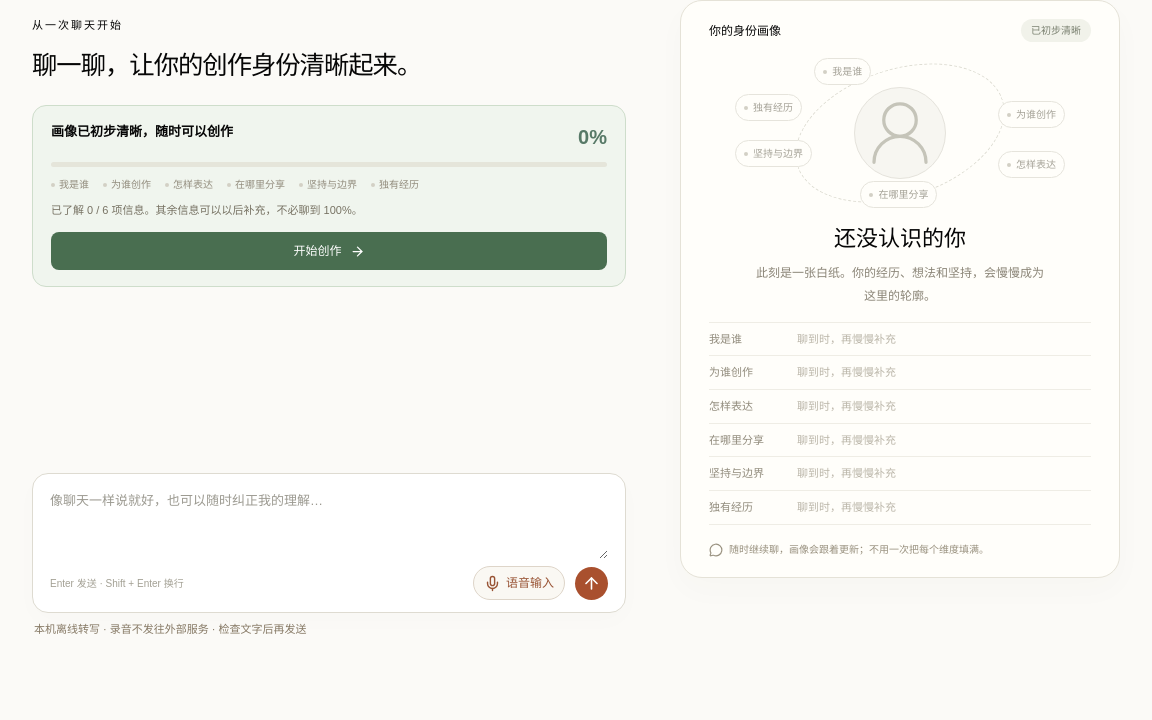
local voice input › releases a permission request that completes after cancellation
The width and height of the screenshot is (1152, 720).
What coordinates should you click on to do the following:
click the button with aria-label "开始语音输入"
I would click on:
 (519, 583)
Its box is [473,566,565,600].
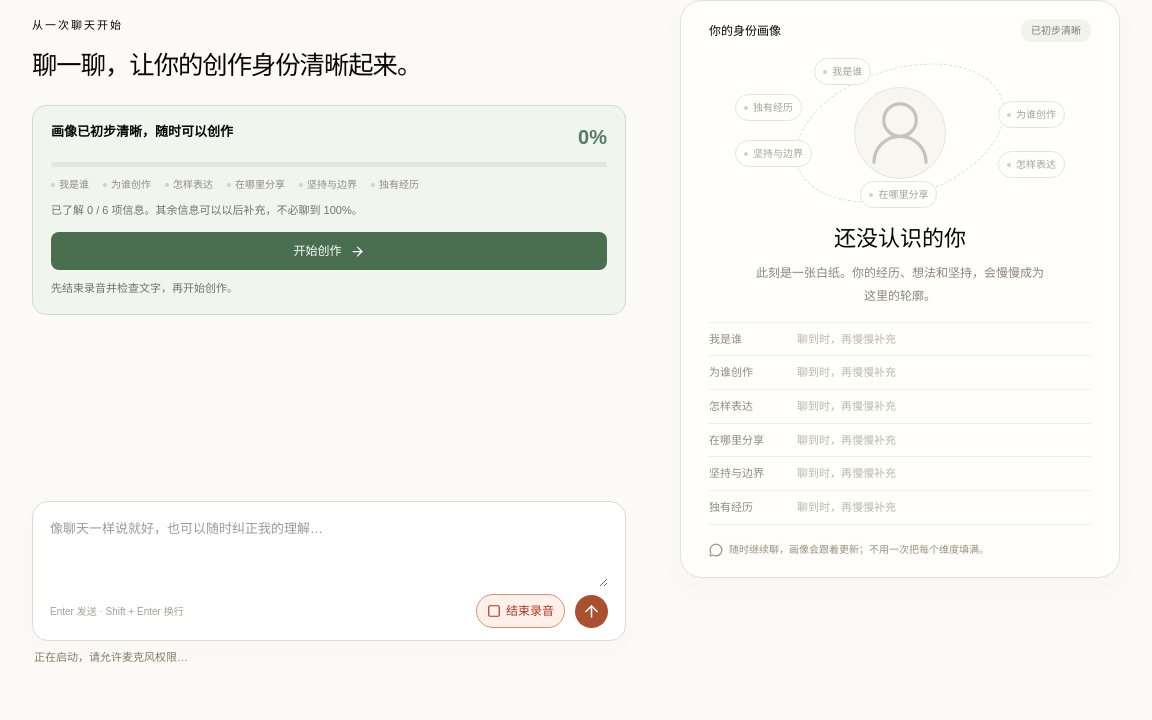
What coordinates should you click on to do the following:
click the button with aria-label "停止语音输入"
I would click on:
 (520, 611)
Its box is [476,594,565,628].
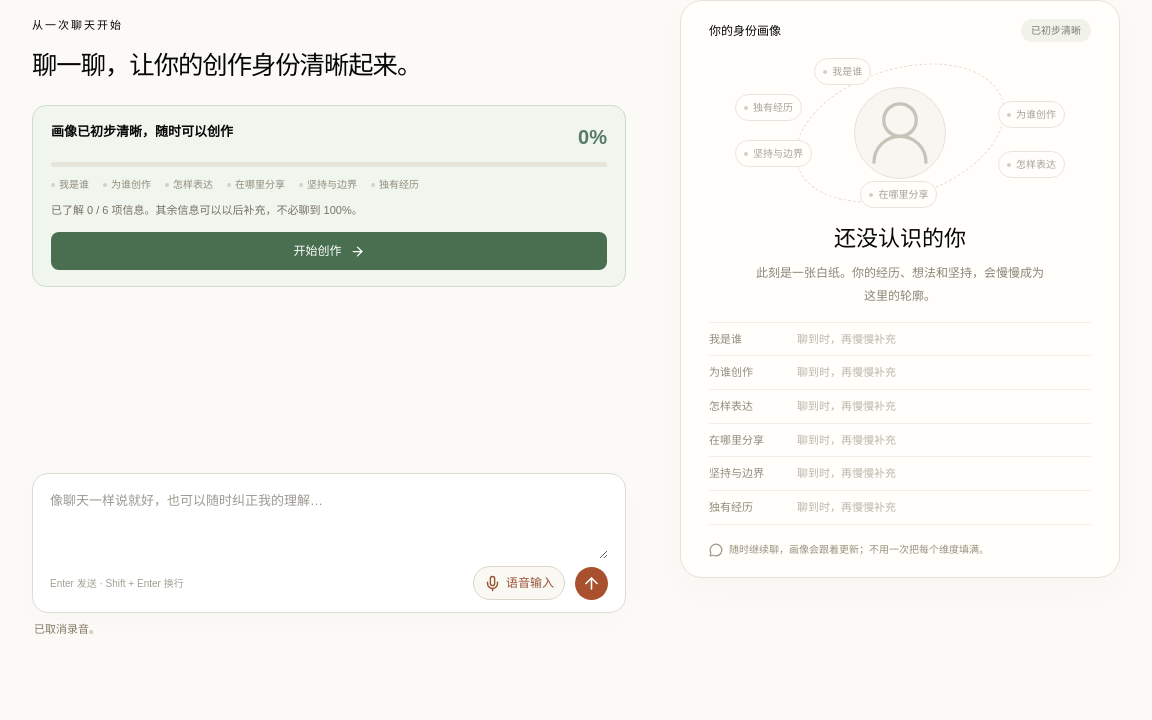
Result: the message shows "已取消录音" at [34,623,100,635]
